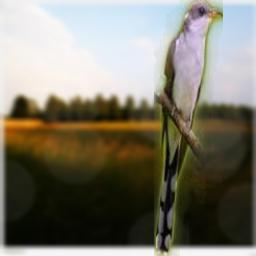Cuckoo: (154, 0, 223, 256)
